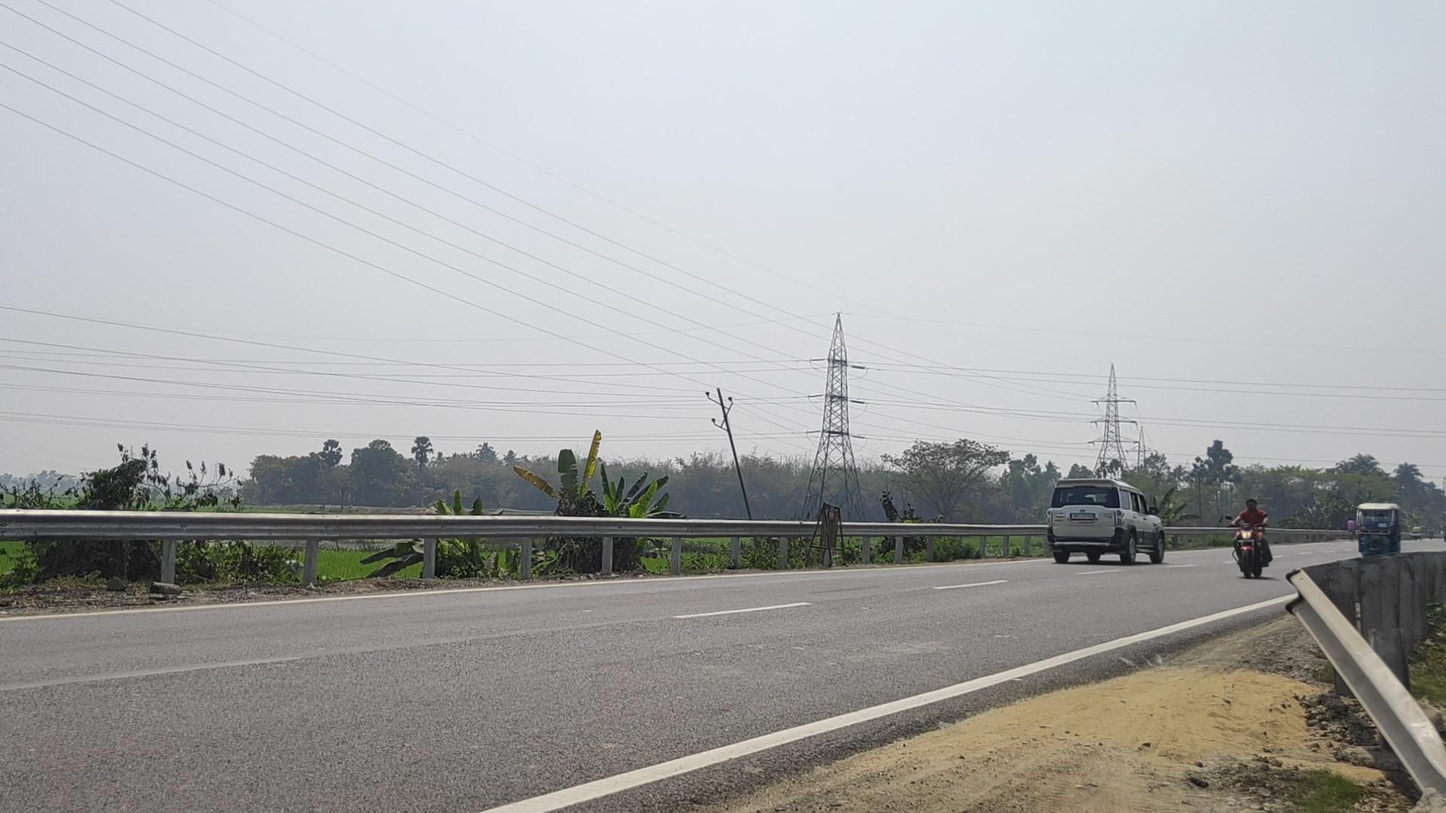Auto: (1356, 503, 1402, 562)
bike: (1225, 498, 1274, 579)
car: (1046, 478, 1166, 565)
